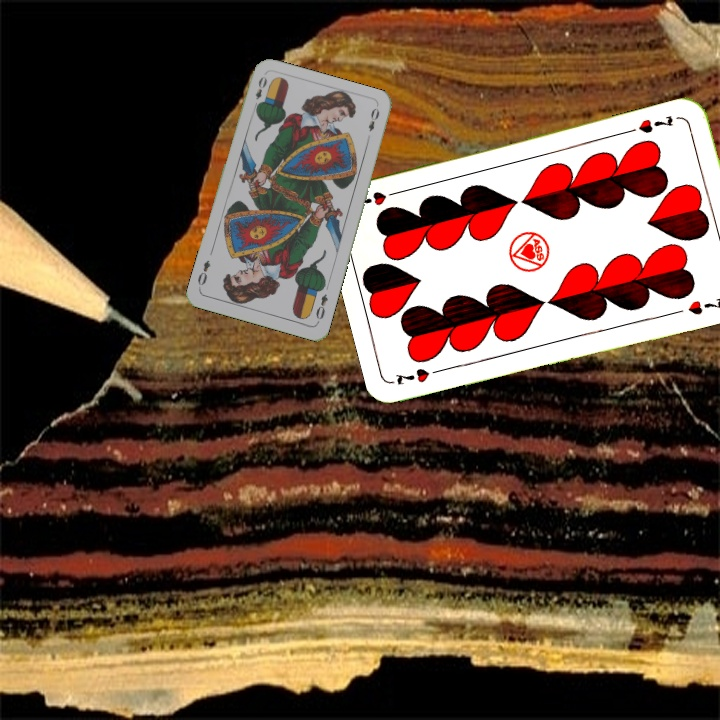EO: (249, 72, 269, 111), (312, 290, 330, 325)
H7: (392, 363, 448, 388), (634, 111, 676, 136)
